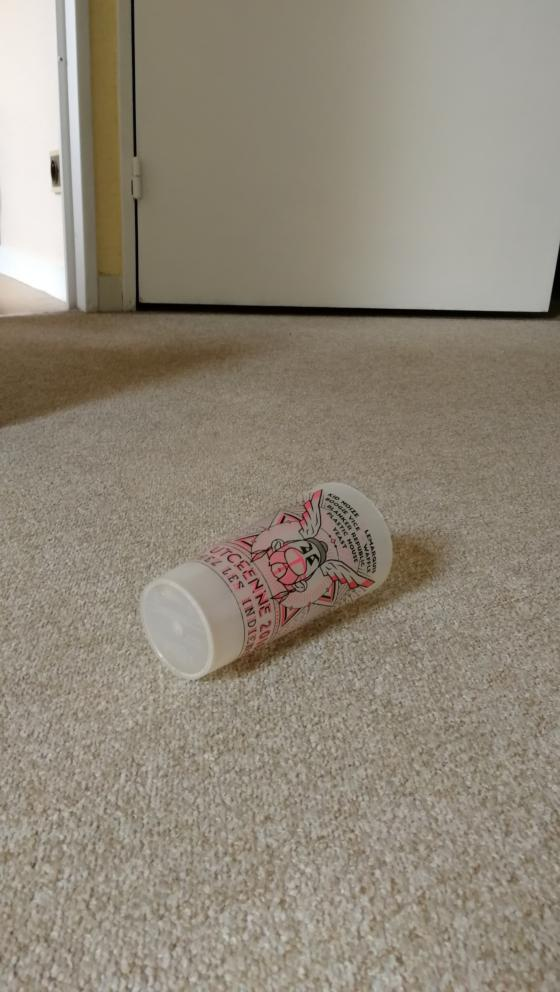ecocup: (139, 481, 393, 680)
